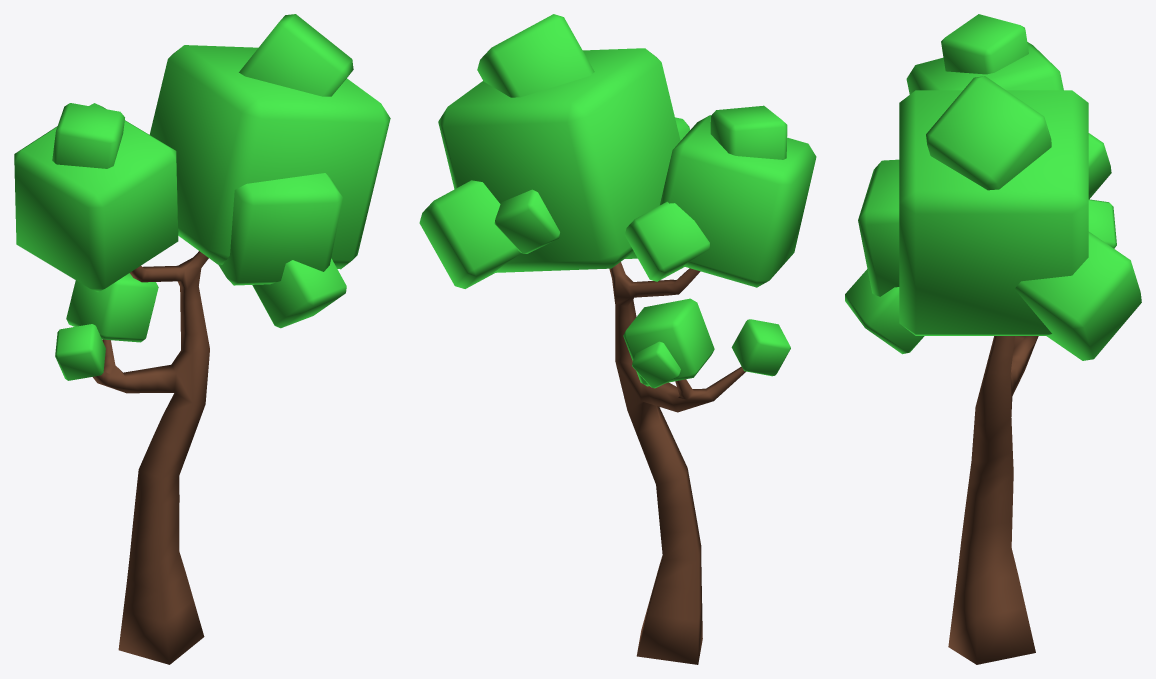
Rendered from tree_1.fbx.
The picture shows the model from 3 angles, left to right: view 1: azimuth 30°, elevation 25°; view 2: azimuth 150°, elevation 25°; view 3: azimuth 270°, elevation 25°; orthographic projection. The views are drawn at different scales.
Visible parts, largest first — view 1: Cube.008; view 2: Cube.008; view 3: Cube.008.
Boxes of the visible parts, bbox=[...] form: Cube.008: bbox=[14, 14, 390, 664]; Cube.008: bbox=[419, 14, 816, 664]; Cube.008: bbox=[845, 14, 1141, 664].
Bounding box in the file's own units: 873 × 1468 × 619.
